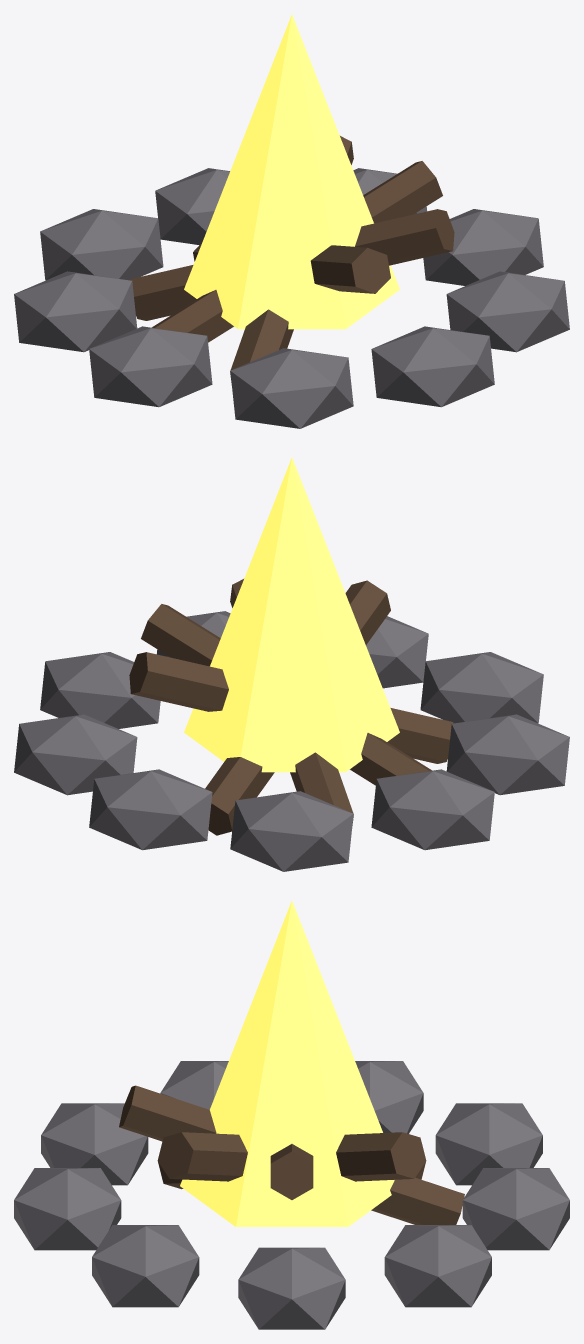
Rendered from goblin_campfire.glb.
The picture shows the model from 3 angles, top to bottom: view 1: azimuth 30°, elevation 25°; view 2: azimuth 150°, elevation 25°; view 3: azimuth 270°, elevation 25°; orthographic projection. The views are drawn at different scales.
Visible parts, largest first — view 1: goblin_campfire; view 2: goblin_campfire; view 3: goblin_campfire.
Boxes of the visible parts, x1=… form: goblin_campfire: x1=14, y1=14, x2=569, y2=428; goblin_campfire: x1=14, y1=457, x2=569, y2=871; goblin_campfire: x1=14, y1=901, x2=569, y2=1329.
Bounding box in the file's own units: 1.65 × 1.06 × 1.59.
